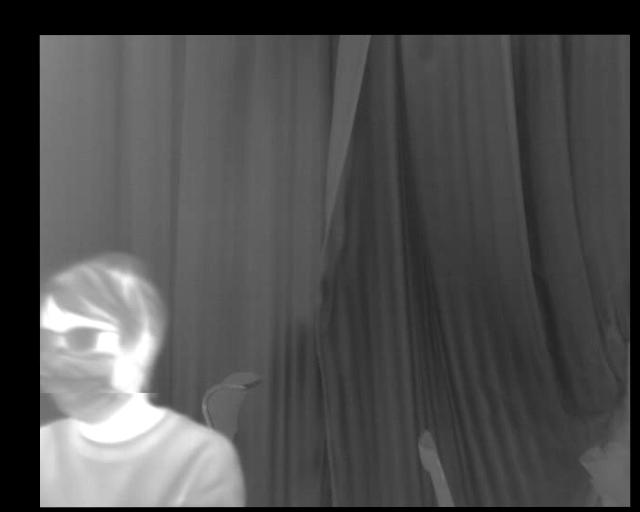face: (43, 254, 168, 424)
